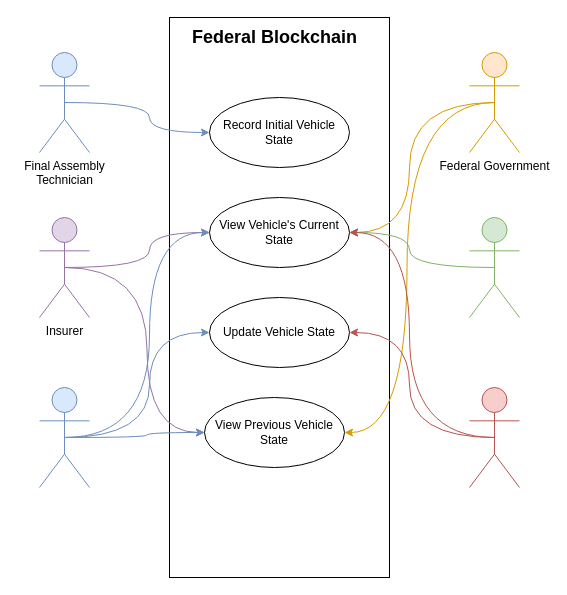
Some shapes in this 567 by 595 pixel diagram are drawn without their labels. Here are the shapes that lost their labels. From the top down, the centre of each, then its label:
At [494,267]: "State DMV".
At [64,437]: "Dealer Technician".
At [494,437]: "Owner".
